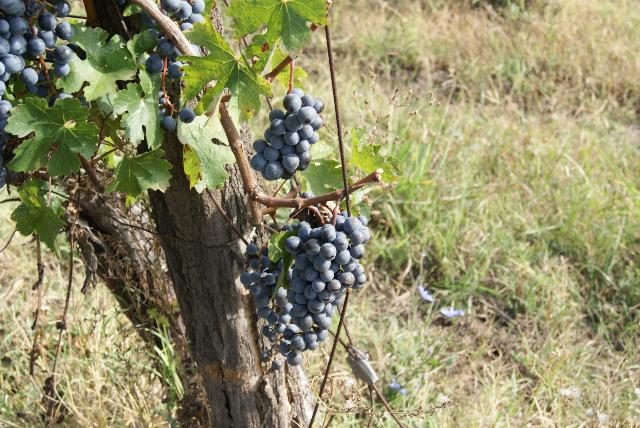grapes: (285, 211, 370, 350), (251, 88, 324, 180)
